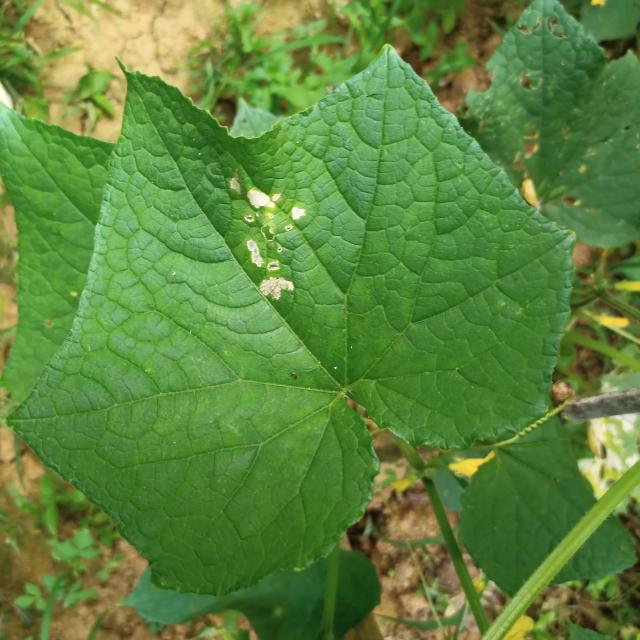disease_cucumber: (224, 167, 313, 310)
